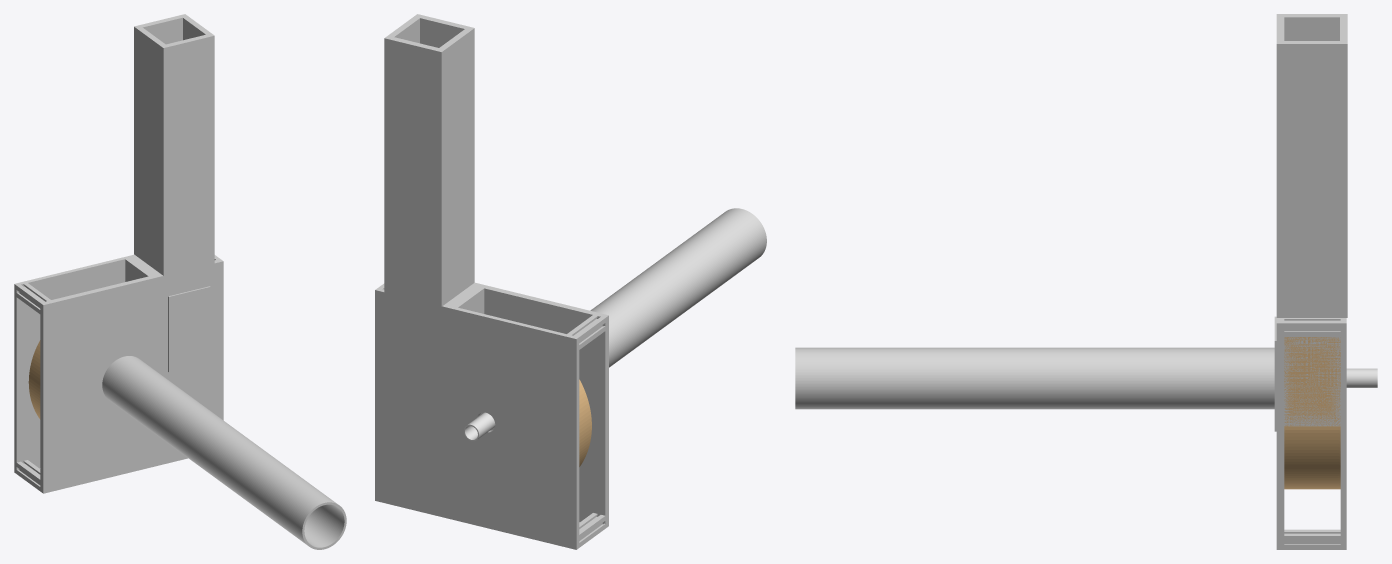
The model's file is induced-draft-fan.glb.
3 renders of one model, left to right at view 1: azimuth 30°, elevation 25°; view 2: azimuth 150°, elevation 25°; view 3: azimuth 270°, elevation 25°, orthographic. The views are drawn at different scales.
Visible parts, largest first — view 1: SHELL, SHELL010; view 2: SHELL, SHELL010, SHELL001; view 3: SHELL, SHELL020, SHELL010, SHELL022.
Part boxes in pixels (box(x1,y1,x2,y2)): SHELL: box(14, 14, 346, 549); SHELL010: box(28, 340, 40, 419); SHELL: box(375, 14, 766, 549); SHELL010: box(579, 379, 591, 466); SHELL001: box(463, 412, 495, 441); SHELL: box(795, 14, 1347, 549); SHELL020: box(1284, 337, 1340, 426); SHELL010: box(1284, 426, 1340, 489); SHELL022: box(1284, 337, 1340, 426).
Size of the model in its own units: 650 by 1435 by 1513.
